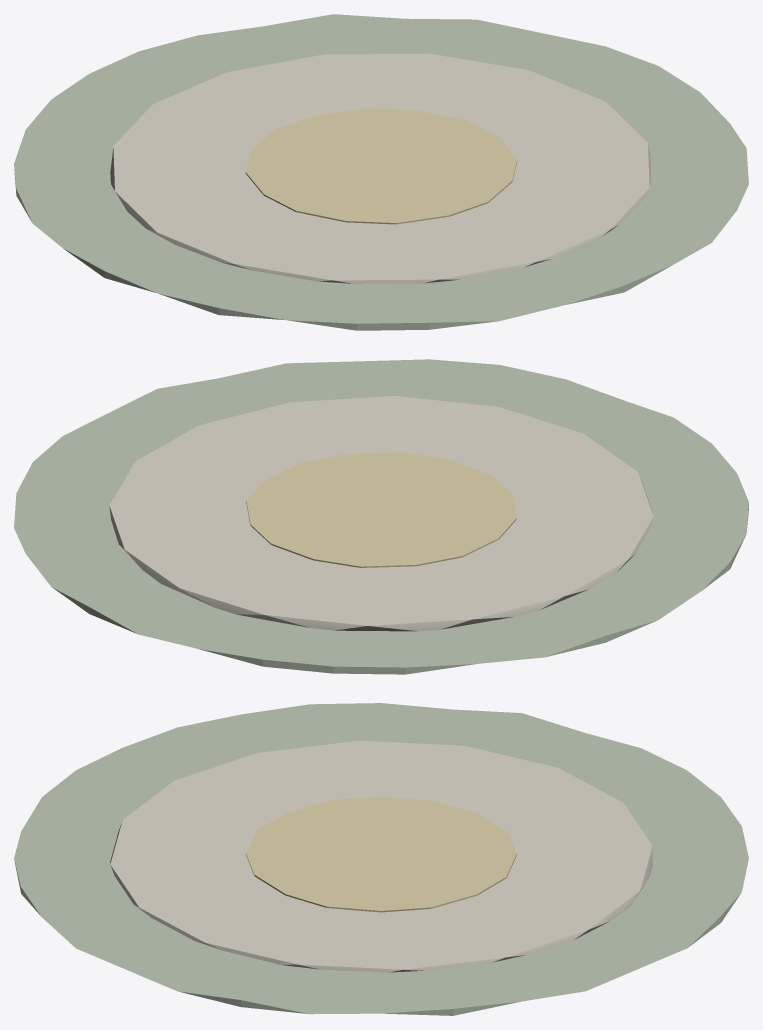
File: furn_rug_round__sage_low.glb
3 views of the same model, one above another, from view 1: azimuth 30°, elevation 25°; view 2: azimuth 150°, elevation 25°; view 3: azimuth 270°, elevation 25° (orthographic).
Size of the model in its own units: 1.9 by 0.028 by 1.9.
